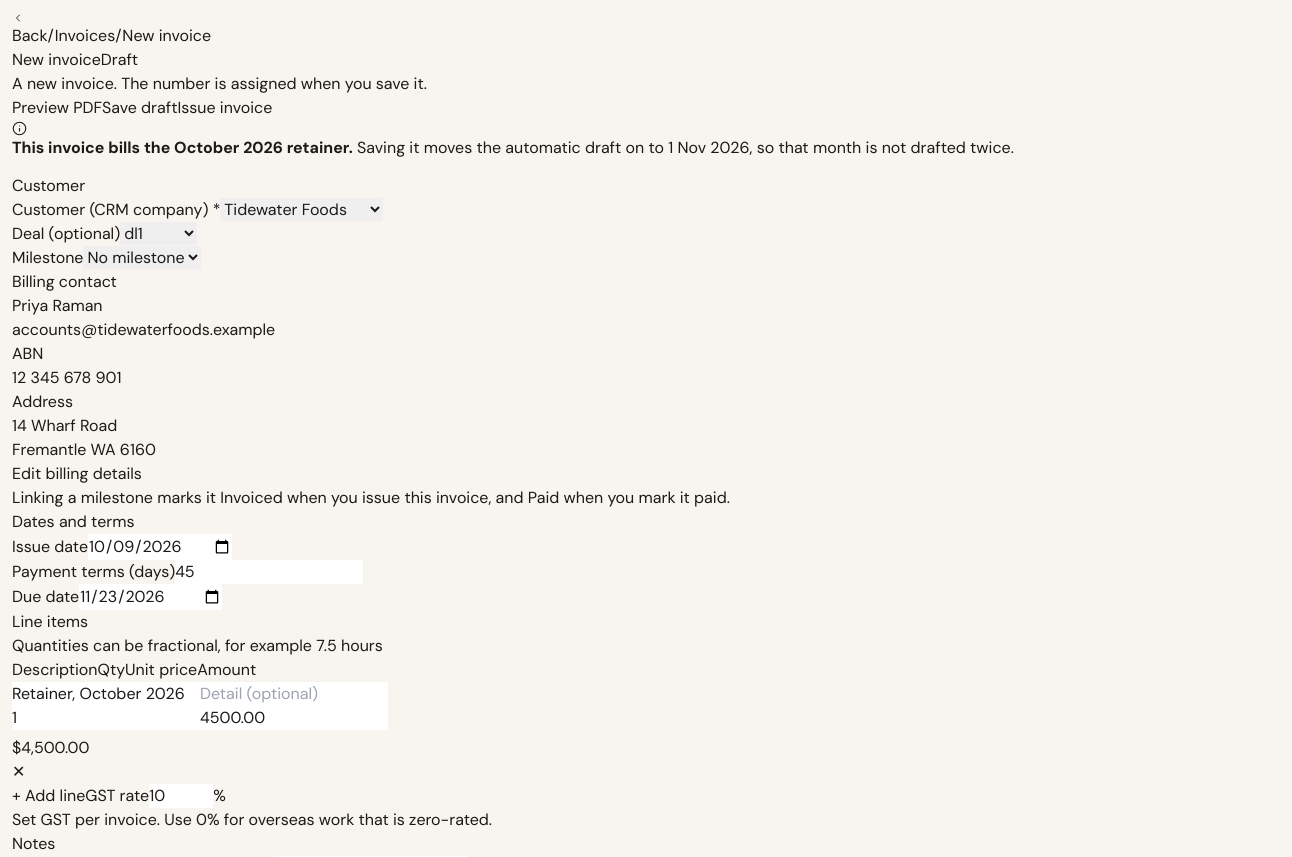
Test case: A retainer invoice made by hand › issuing stops at the same warning, so the second invoice is never issued
Click the button "Issue invoice".
click(225, 108)  # box [178, 96, 272, 120]
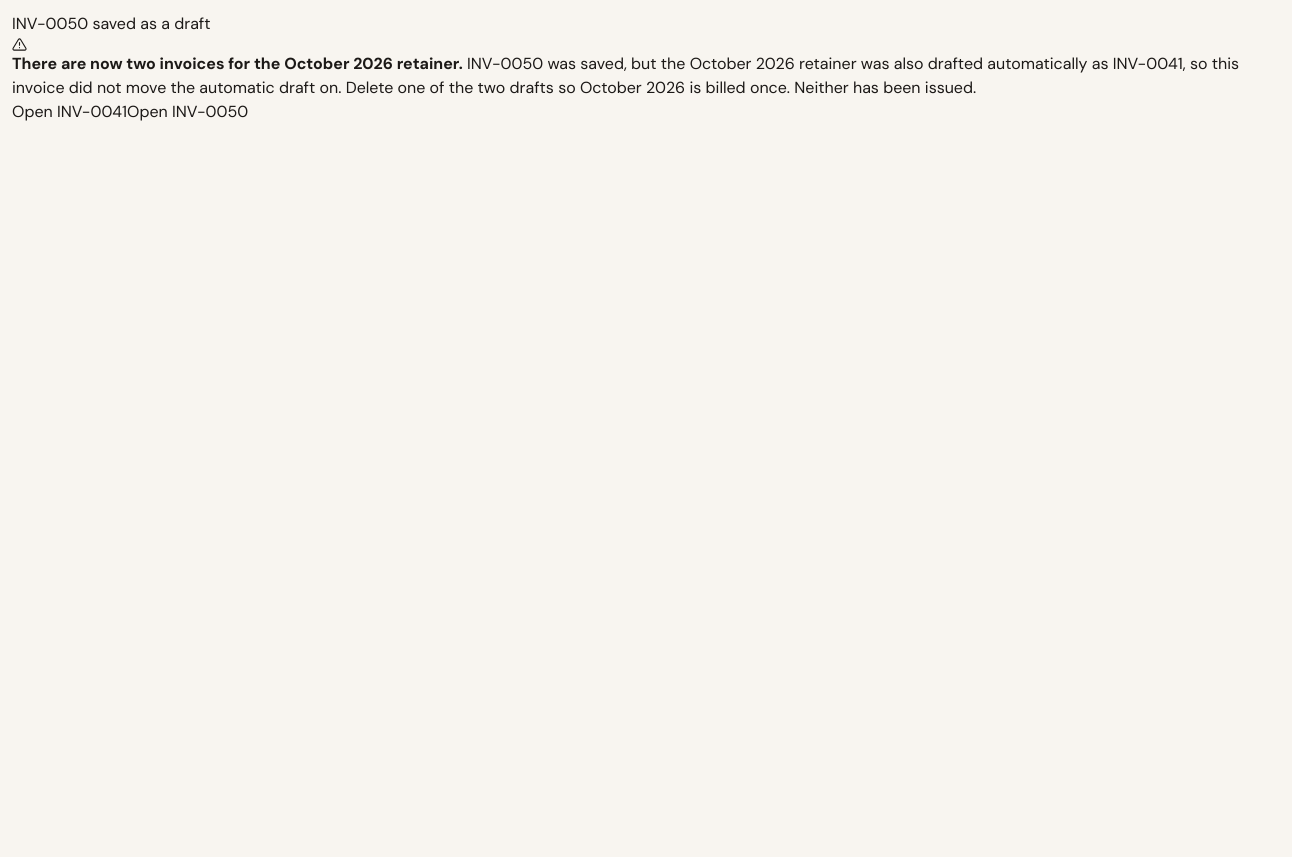
Expected: the text "There are now two invoices for the October 2026 retainer" is shown, [12, 53, 463, 74]
